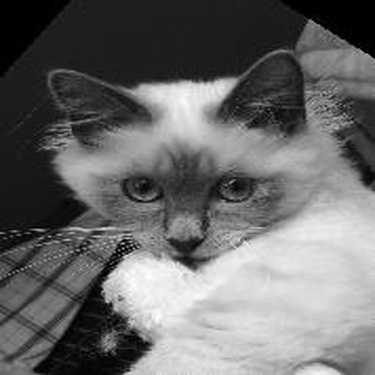cat: (32, 46, 360, 367)
